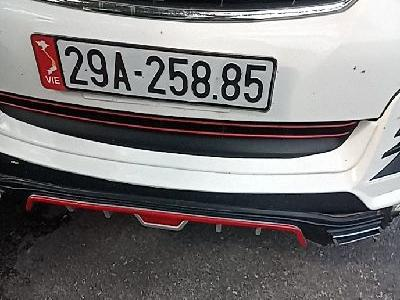lisence: (29, 30, 280, 114)
